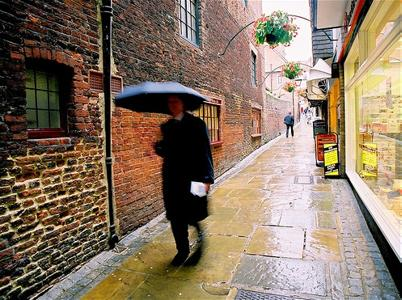person: (152, 95, 216, 267)
